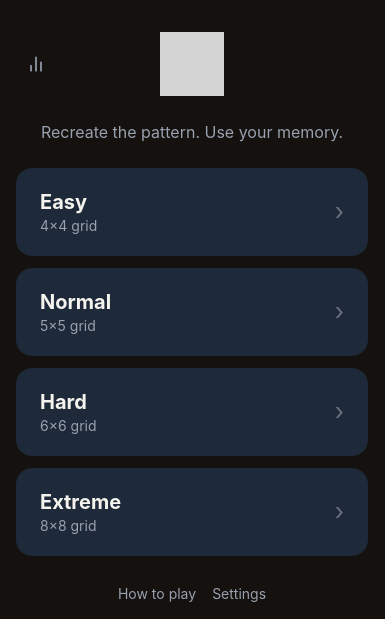
Test case: Stats routing (App integration) › stats button on DifficultyPicker navigates to stats screen
Click the button named "show stats": (36, 64) [16,44,56,84]
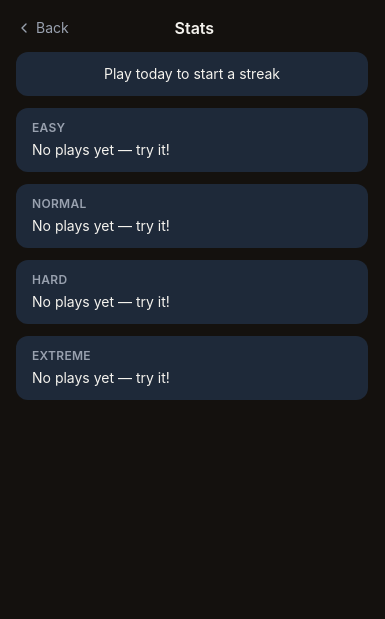
Check: the heading "Stats" is shown, box [174,16,214,40]
